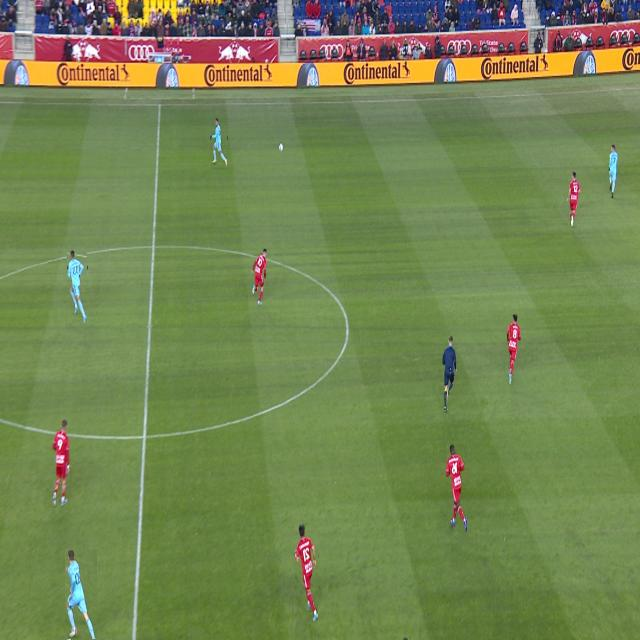football: (279, 143, 283, 152)
player: (66, 549, 97, 640), (295, 524, 318, 622), (446, 444, 467, 532), (52, 419, 70, 508), (68, 250, 87, 323), (507, 313, 521, 385), (251, 248, 267, 305), (567, 171, 581, 227), (211, 118, 227, 166), (608, 143, 618, 199)
referee: (443, 335, 457, 412)
